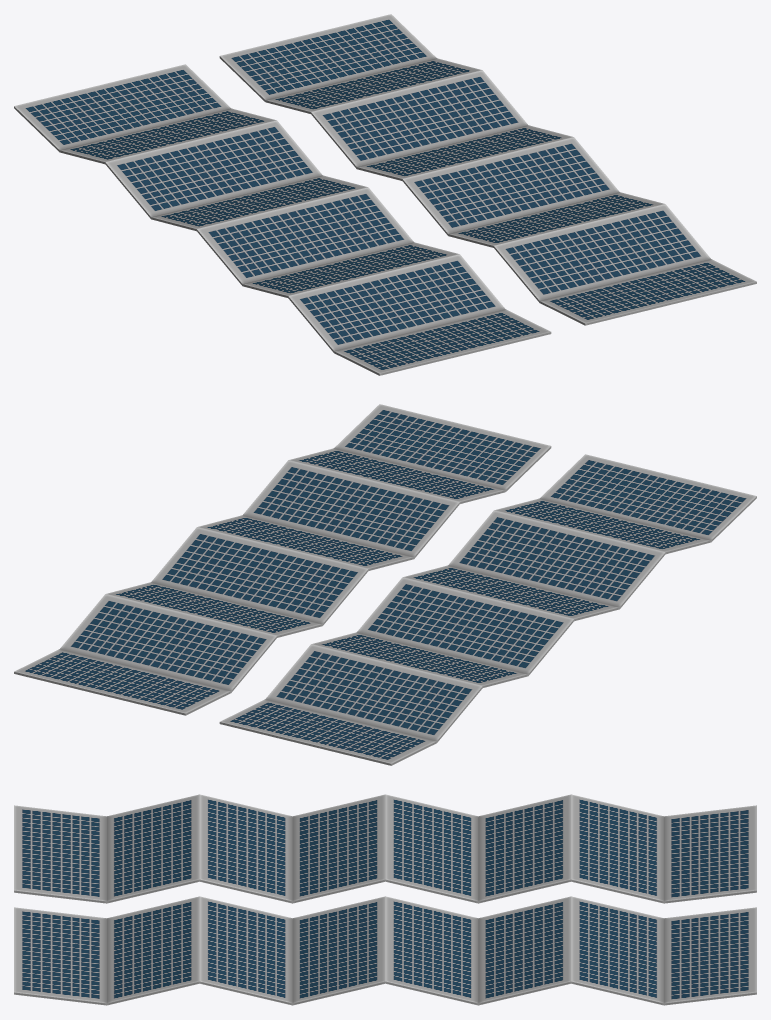
Rendered from Eridani_SolarDorsal_1_Panel.obj.
3 views of the same model, one above another, from view 1: azimuth 30°, elevation 25°; view 2: azimuth 150°, elevation 25°; view 3: azimuth 270°, elevation 25° (orthographic).
Visible parts, largest first — view 1: Eridani_SolarDorsal_1_Panel; view 2: Eridani_SolarDorsal_1_Panel; view 3: Eridani_SolarDorsal_1_Panel.
Part boxes in pixels (x1,y1,x2,y2): Eridani_SolarDorsal_1_Panel: (14,14,756,375); Eridani_SolarDorsal_1_Panel: (14,404,756,765); Eridani_SolarDorsal_1_Panel: (14,794,756,1005).
Bounding box in the file's own units: 1.84 × 0.11 × 3.08.
